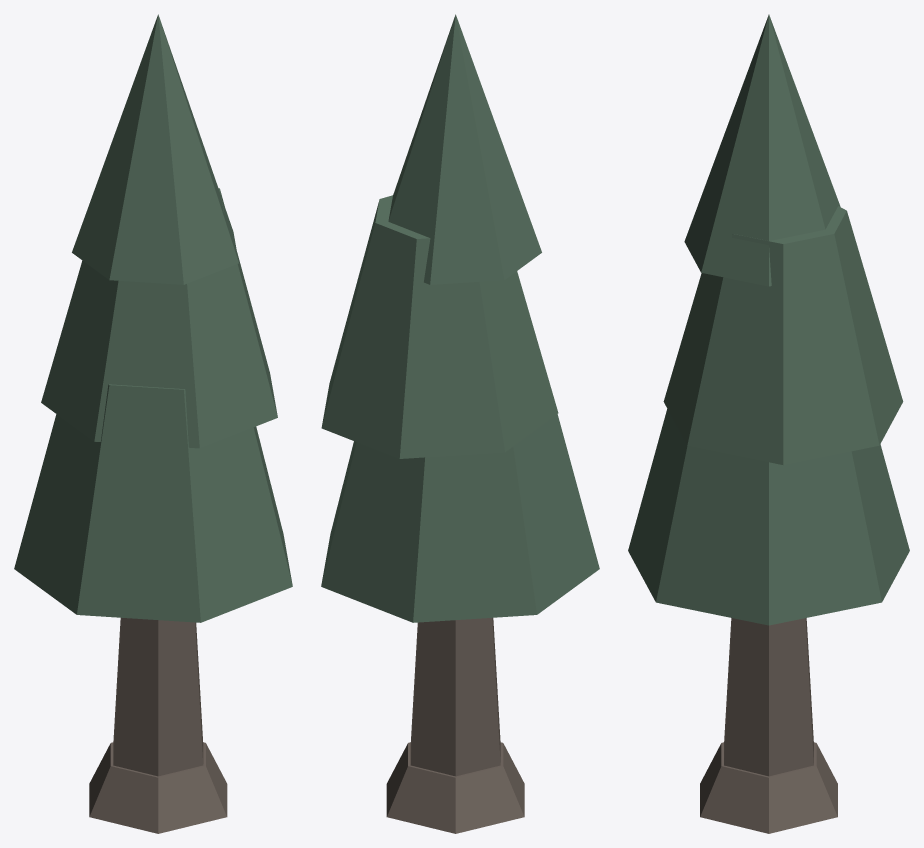
File: tree.glb
The picture shows the model from 3 angles, left to right: view 1: azimuth 30°, elevation 25°; view 2: azimuth 150°, elevation 25°; view 3: azimuth 270°, elevation 25°; orthographic projection.
Parts seen in each view (by area): view 1: tree; view 2: tree; view 3: tree.
Boxes of the visible parts, x1,y1,x2,y2 form: tree: [14, 14, 292, 833]; tree: [321, 14, 599, 833]; tree: [628, 14, 909, 833].
Bounding box in the file's own units: 1.9 × 6 × 1.95.
